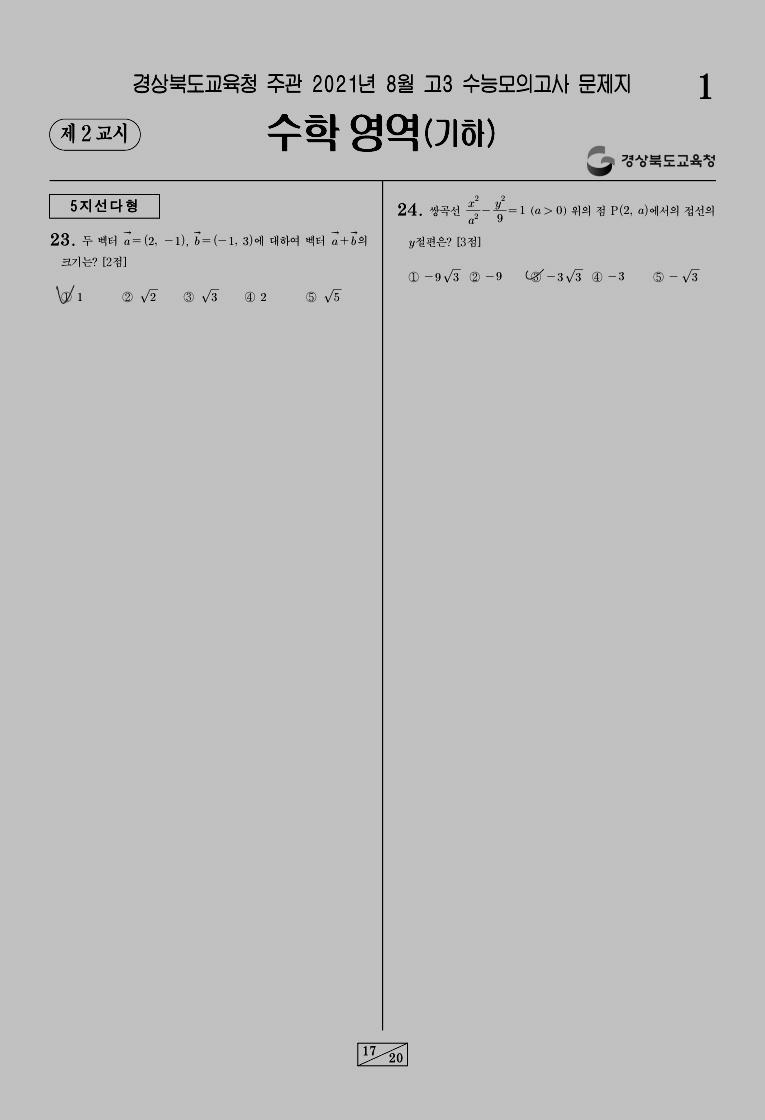question: (382, 190, 726, 305), (36, 222, 378, 322)
